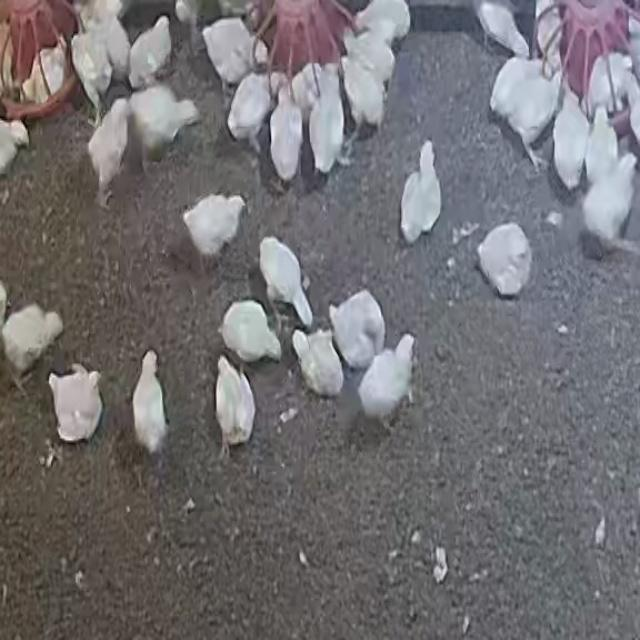chicken: (583, 149, 638, 252), (132, 85, 205, 155), (260, 237, 314, 331), (357, 332, 417, 415), (49, 362, 104, 446), (87, 98, 130, 205), (182, 193, 245, 264), (1, 302, 63, 374), (330, 290, 385, 370), (130, 348, 169, 458), (218, 300, 282, 366), (476, 222, 532, 296), (203, 20, 271, 80), (214, 354, 256, 450), (403, 140, 442, 242), (308, 67, 344, 177), (341, 53, 387, 134), (552, 93, 589, 189), (293, 327, 343, 397), (227, 70, 273, 146), (127, 16, 173, 89), (69, 30, 106, 115), (270, 89, 302, 180), (476, 0, 528, 56), (341, 28, 395, 78), (584, 110, 618, 187), (350, 0, 416, 38)
